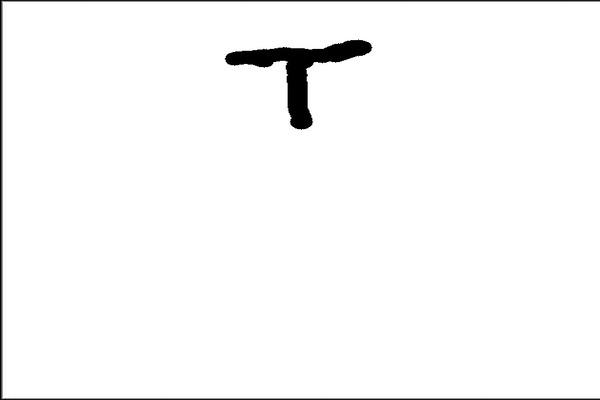T: (219, 30, 379, 133)
